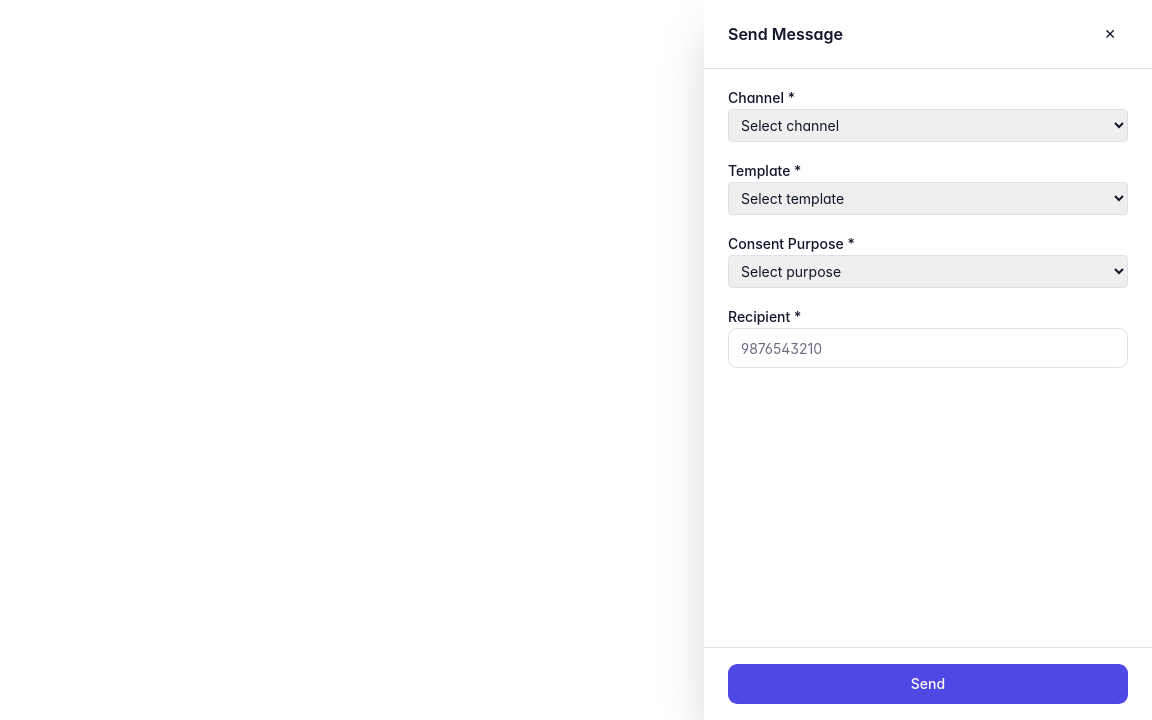
SendCommunicationDrawer › UI-03: Send button is disabled once a purpose is selected and consent is not granted
// Use fireEvent.change to trigger the React synthetic event on the select.
Select "Lead Contact" in the dropdown labelled "Consent Purpose *". click: [928, 272]
box: [728,255,1128,288]
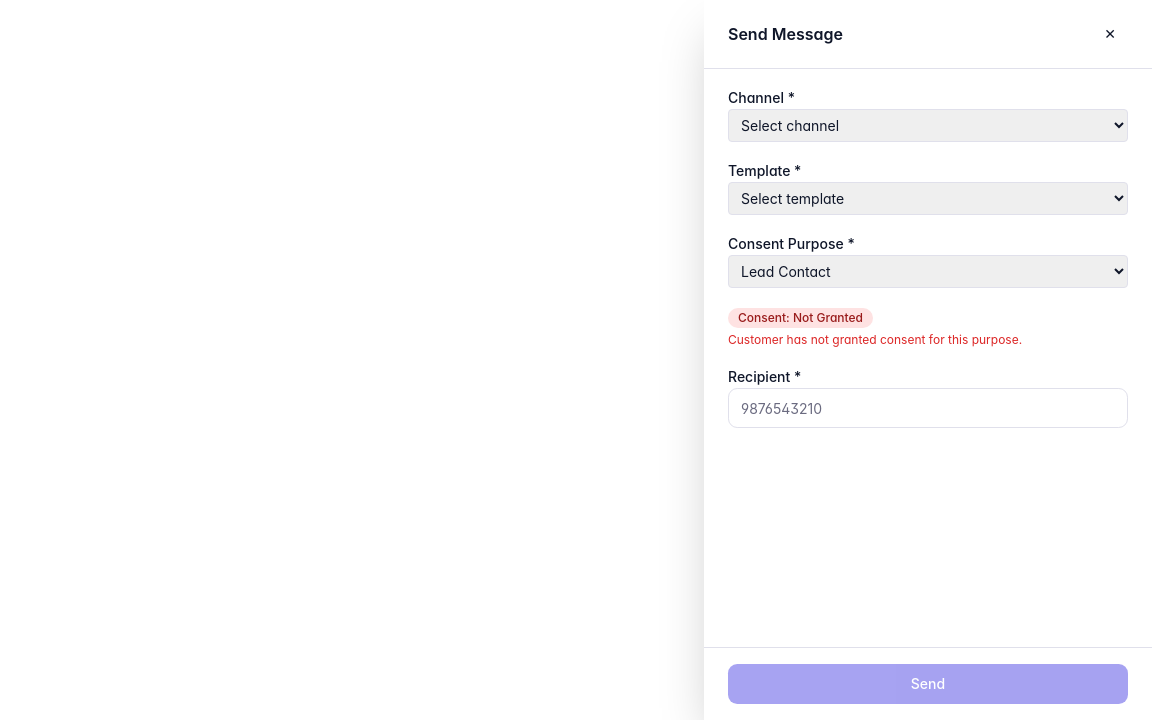
Now the text "Customer has not granted consent for this purpose." is shown, box [728,332,1022,347]
Now the button "Send" is disabled, box [728,664,1128,704]
